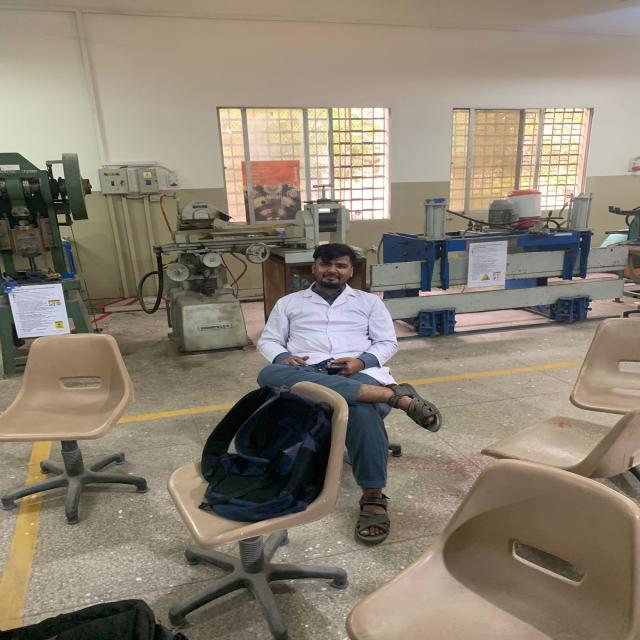labcoat: (254, 279, 400, 387)
